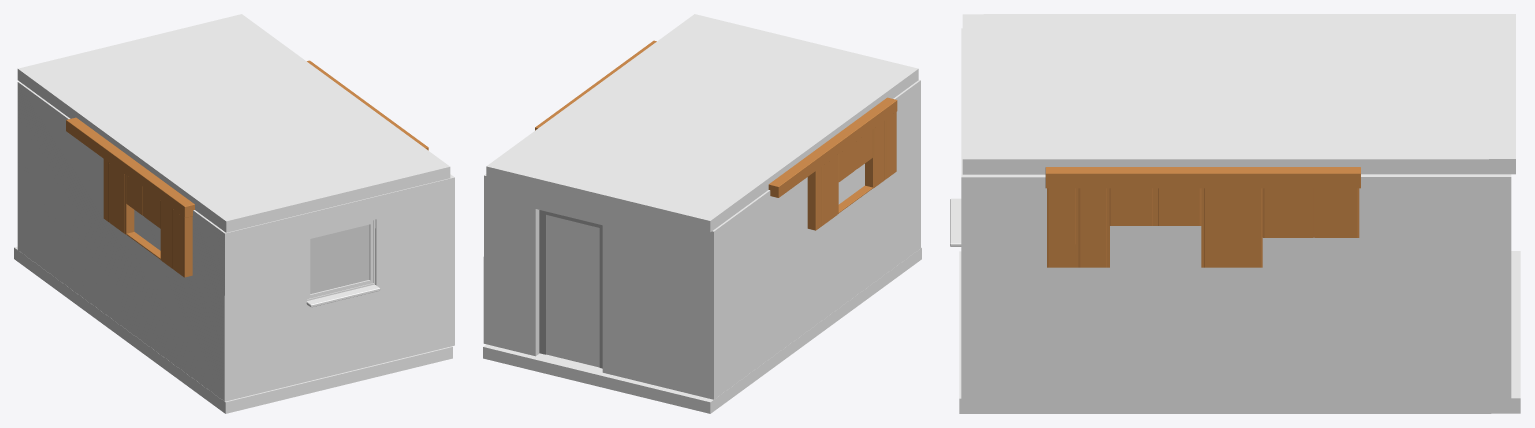
File: FP12_FloorPlan12_physics.fbx
3 views of the same model, side by side, from view 1: azimuth 30°, elevation 25°; view 2: azimuth 150°, elevation 25°; view 3: azimuth 270°, elevation 25° (orthographic). The views are drawn at different scales.
Parts seen in each view (by area): view 1: FP12:Room.045, FP12:Room.043, FP12:Room.044, FP12:Cube.589, FP12:WindowPane, FP12:Cube.596, FP12:WindowFrame1, FP12:Cube.593; view 2: FP12:Room.045, FP12:Room.043, FP12:Room.042, FP12:Room.044, FP12:Cube.589, FP12:Cube.596, FP12:Doorframe1, FP12:Cube.593; view 3: FP12:Room.045, FP12:Room.043, FP12:Cube.560, FP12:Room.044, FP12:Cube.593, FP12:WindowFrame1.
Boxes of the visible parts, x1,y1,x2,y2 form: FP12:Room.045: [17, 81, 454, 401]; FP12:Room.043: [17, 14, 450, 232]; FP12:Room.044: [14, 246, 452, 413]; FP12:Cube.589: [103, 159, 192, 277]; FP12:WindowPane: [310, 224, 369, 293]; FP12:Cube.596: [66, 117, 194, 217]; FP12:WindowFrame1: [306, 219, 380, 307]; FP12:Cube.593: [307, 60, 428, 150]; FP12:Room.045: [483, 80, 920, 399]; FP12:Room.043: [486, 14, 918, 232]; FP12:Room.042: [546, 215, 599, 367]; FP12:Room.044: [483, 247, 921, 413]; FP12:Cube.589: [807, 112, 896, 230]; FP12:Cube.596: [768, 97, 897, 197]; FP12:Doorframe1: [539, 210, 602, 368]; FP12:Cube.593: [535, 40, 656, 130]; FP12:Room.045: [961, 28, 1511, 400]; FP12:Room.043: [962, 14, 1515, 174]; FP12:Cube.560: [1047, 188, 1359, 267]; FP12:Room.044: [959, 251, 1520, 413]; FP12:Cube.593: [1045, 167, 1360, 188]; FP12:WindowFrame1: [950, 198, 961, 246].
Size of the model in its own units: 365 by 273 by 556.
